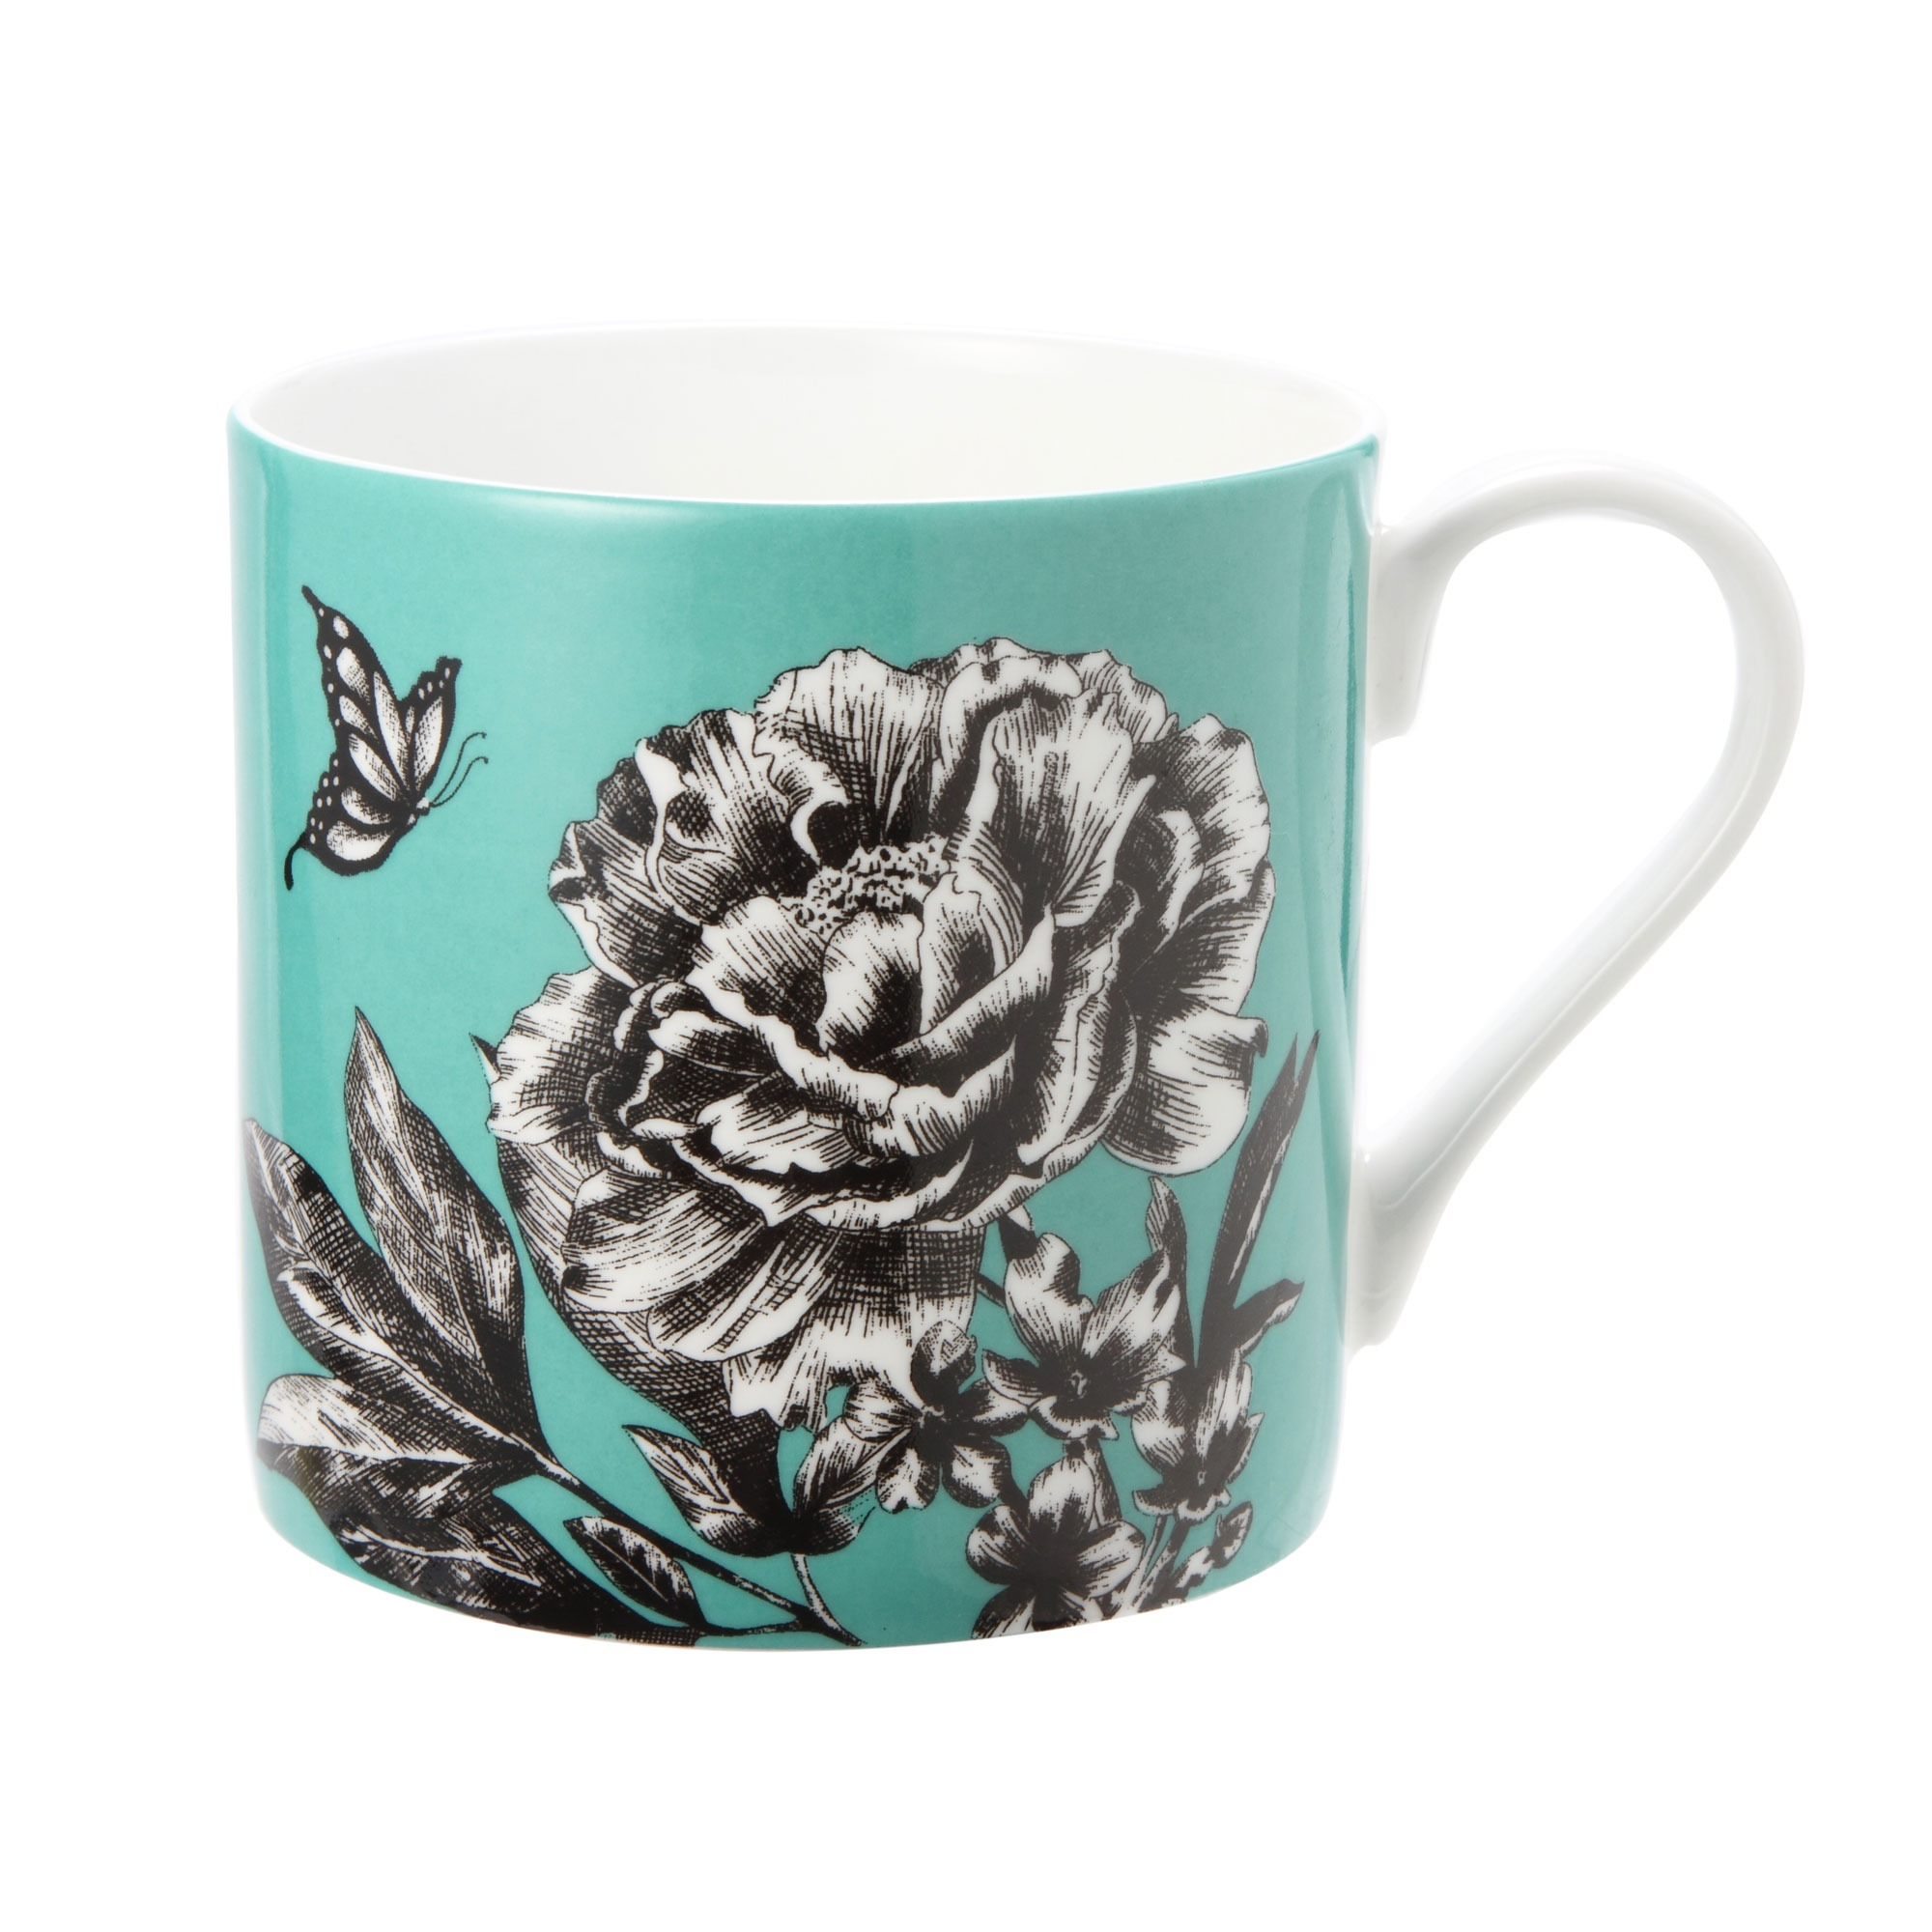cup: (219, 308, 1813, 1663)
